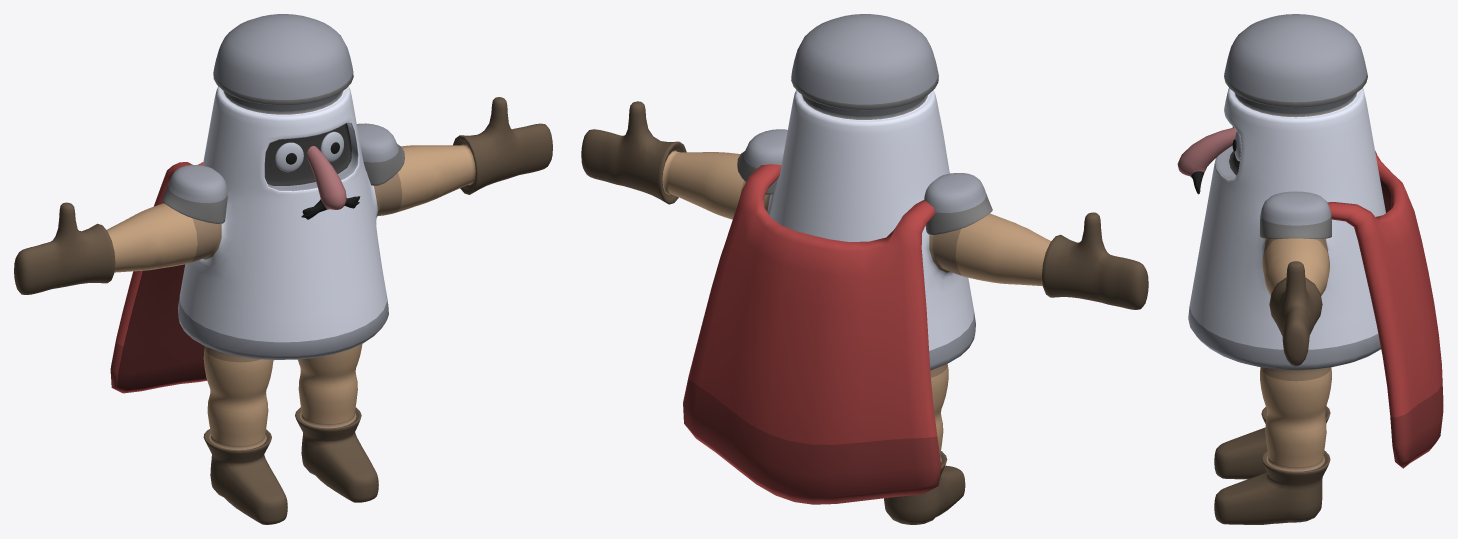
Rendered from TRUE Salt Knight_SEM_VISOR.fbx.
3 views of the same model, side by side, from view 1: azimuth 30°, elevation 25°; view 2: azimuth 150°, elevation 25°; view 3: azimuth 270°, elevation 25° (orthographic). The views are drawn at different scales.
Parts seen in each view (by area): view 1: Salt Knight COM ROSTO.001; view 2: Salt Knight COM ROSTO.001; view 3: Salt Knight COM ROSTO.001.
Boxes of the visible parts, x1=… form: Salt Knight COM ROSTO.001: x1=14, y1=14, x2=552, y2=524; Salt Knight COM ROSTO.001: x1=581, y1=14, x2=1148, y2=524; Salt Knight COM ROSTO.001: x1=1177, y1=14, x2=1443, y2=524.
Size of the model in its own units: 885 by 732 by 373.
Materials: 1 (1 with a texture image).
